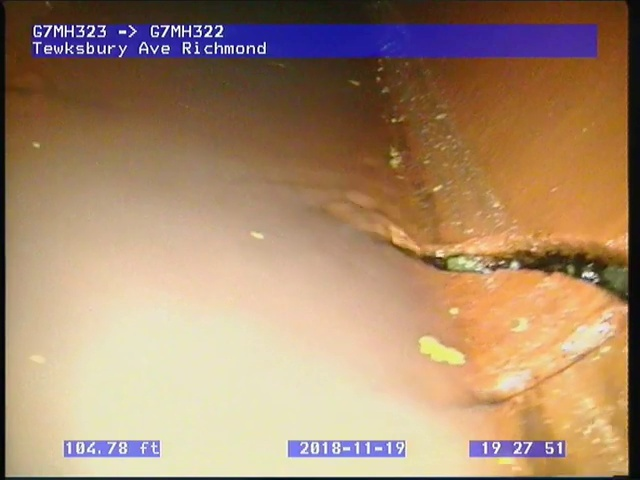crack: (374, 229, 628, 309)
